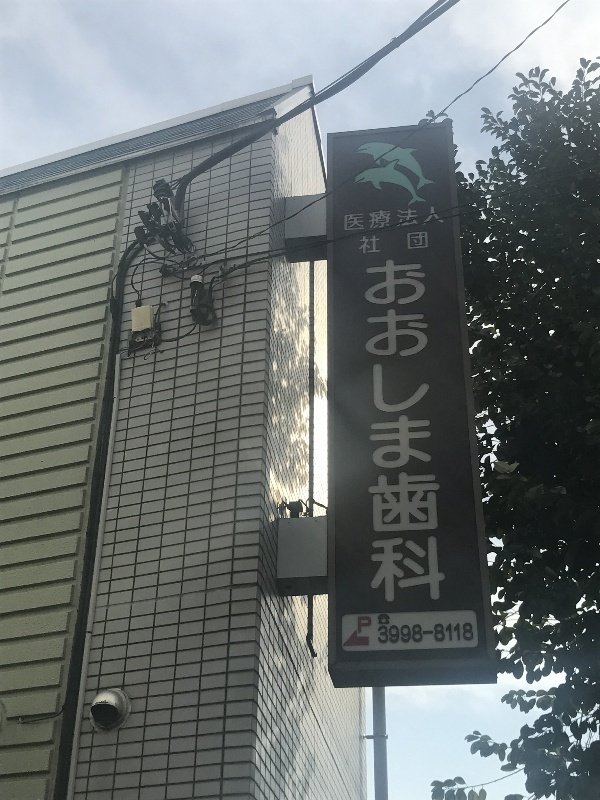text: (369, 254, 384, 610), (385, 254, 400, 610), (401, 254, 416, 610), (417, 254, 432, 610), (433, 254, 448, 610), (363, 254, 368, 610), (353, 203, 368, 233), (369, 203, 384, 233), (385, 203, 400, 233), (401, 203, 416, 233), (417, 203, 432, 233), (369, 229, 384, 257), (385, 229, 400, 257), (401, 229, 416, 257), (385, 621, 400, 646), (401, 621, 416, 646), (417, 621, 432, 646), (433, 621, 448, 646), (449, 621, 464, 646), (433, 203, 445, 233), (417, 229, 429, 257), (359, 229, 368, 257), (465, 621, 475, 646), (344, 203, 352, 233), (358, 616, 368, 635), (378, 621, 384, 646), (369, 616, 372, 635)
